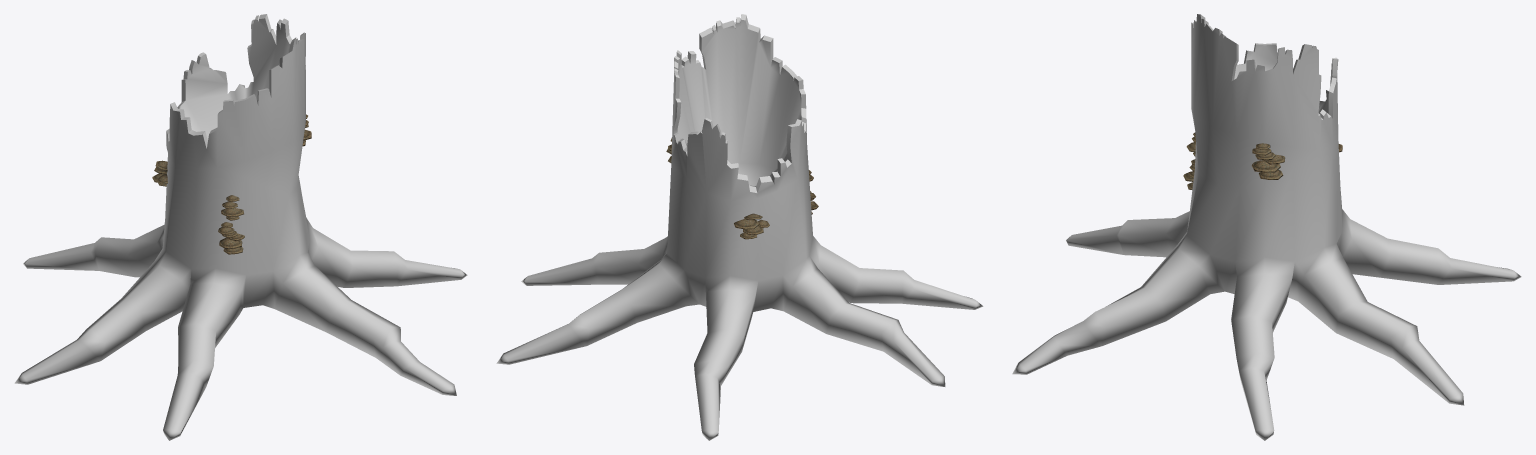
Rendered from Trunk1.fbx.
3 renders of one model, left to right at view 1: azimuth 30°, elevation 25°; view 2: azimuth 150°, elevation 25°; view 3: azimuth 270°, elevation 25°, orthographic. The views are drawn at different scales.
Parts seen in each view (by area): view 1: polySurface278; view 2: polySurface278; view 3: polySurface278.
Part boxes in pixels (<box>): polySurface278: <box>14,14,467,440</box>; polySurface278: <box>496,14,983,440</box>; polySurface278: <box>1012,14,1521,440</box>.
Bounding box in the file's own units: 5.42 × 3.56 × 5.08.
